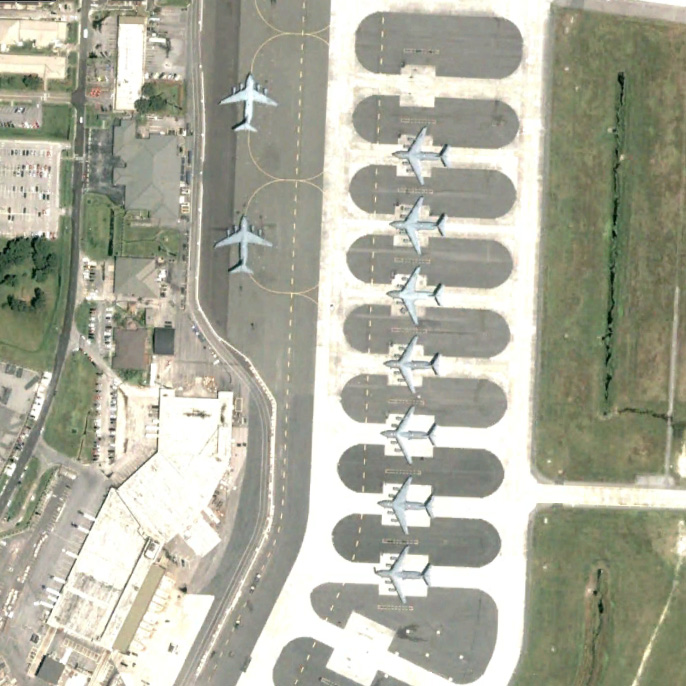A3: (215, 215, 275, 276), (381, 406, 440, 465), (375, 545, 434, 604), (220, 73, 278, 133), (384, 335, 442, 394), (387, 265, 444, 325), (378, 475, 435, 535), (390, 197, 448, 255), (391, 128, 450, 184)
